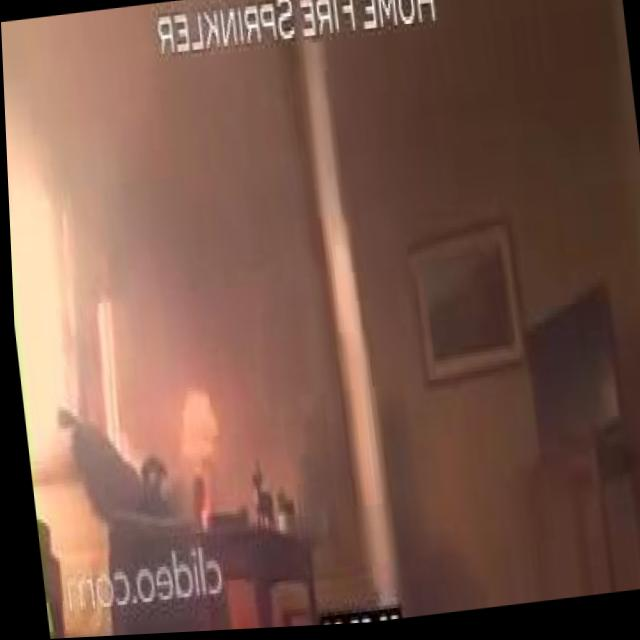fire: (194, 497, 204, 530)
